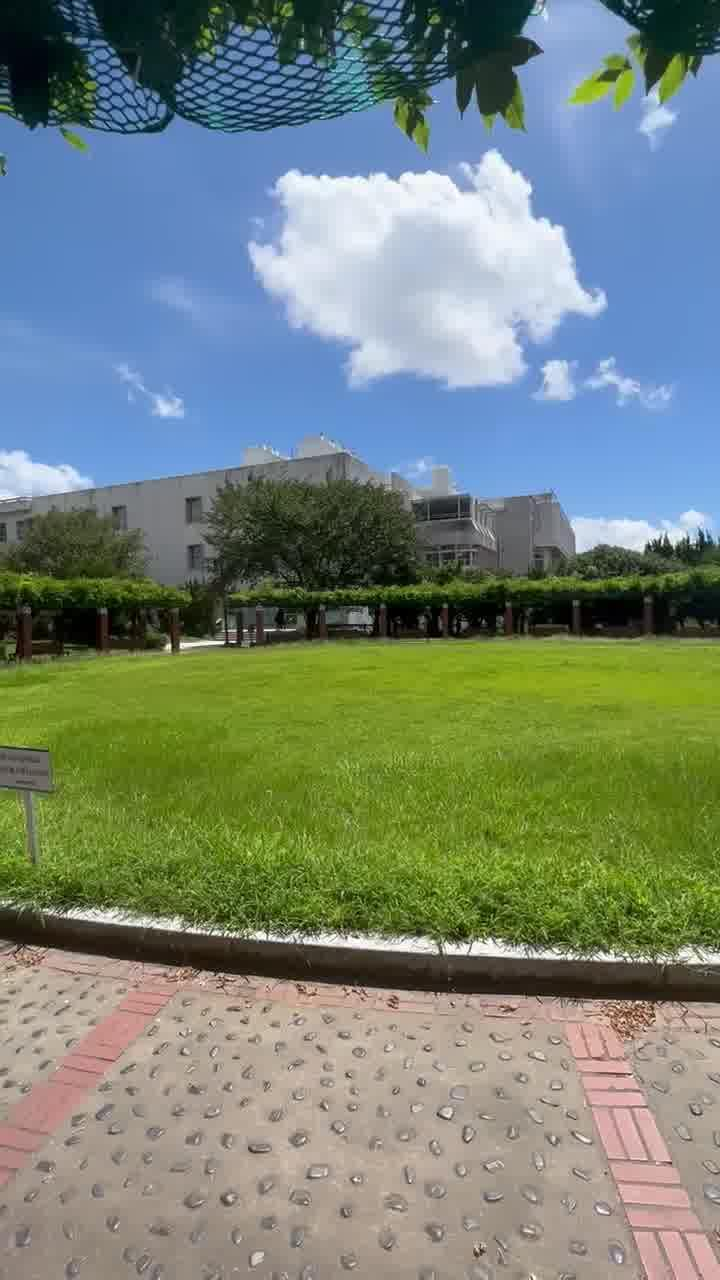building: (418, 474, 550, 556)
